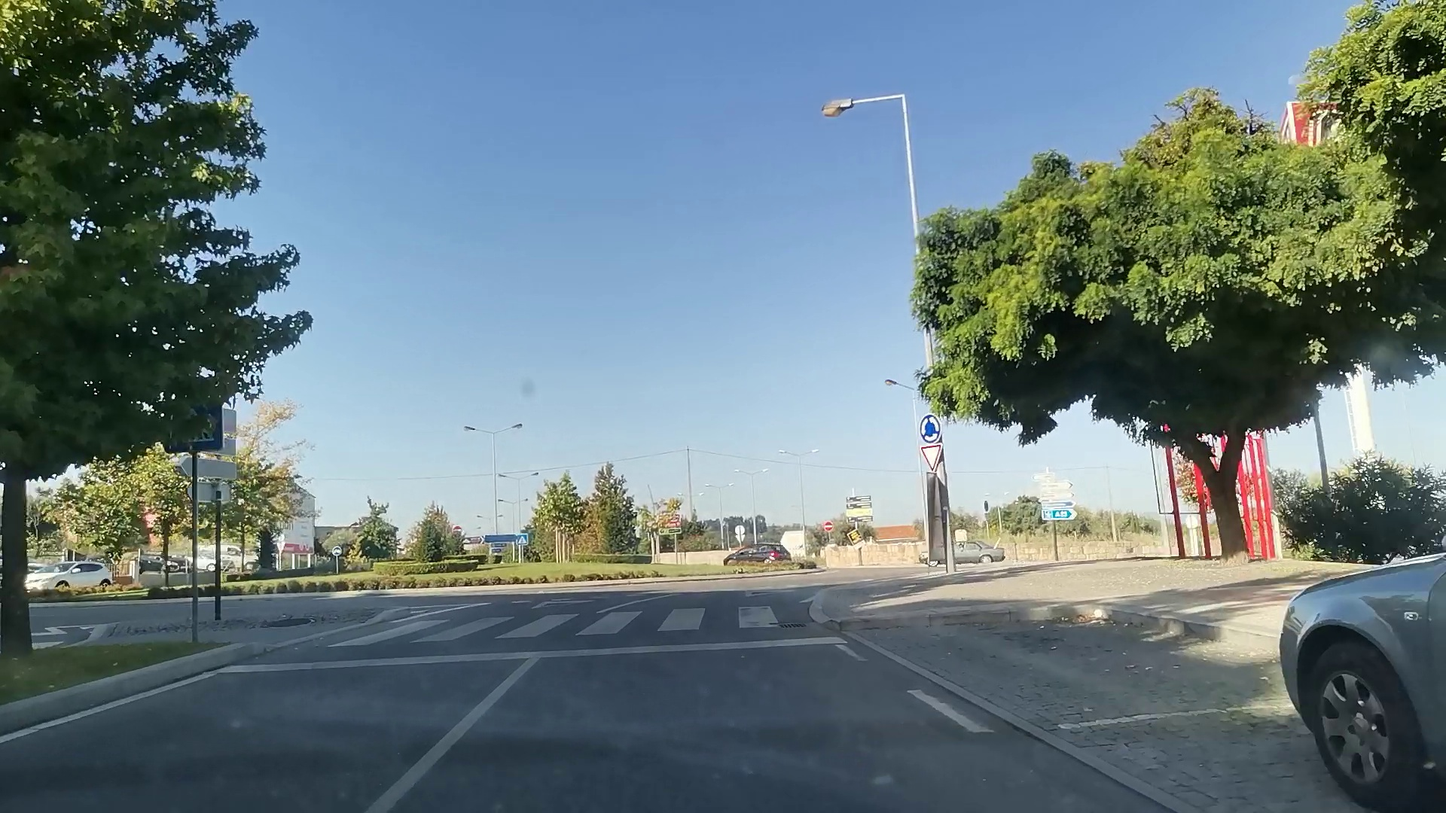Stairs: (303, 602, 787, 650)
